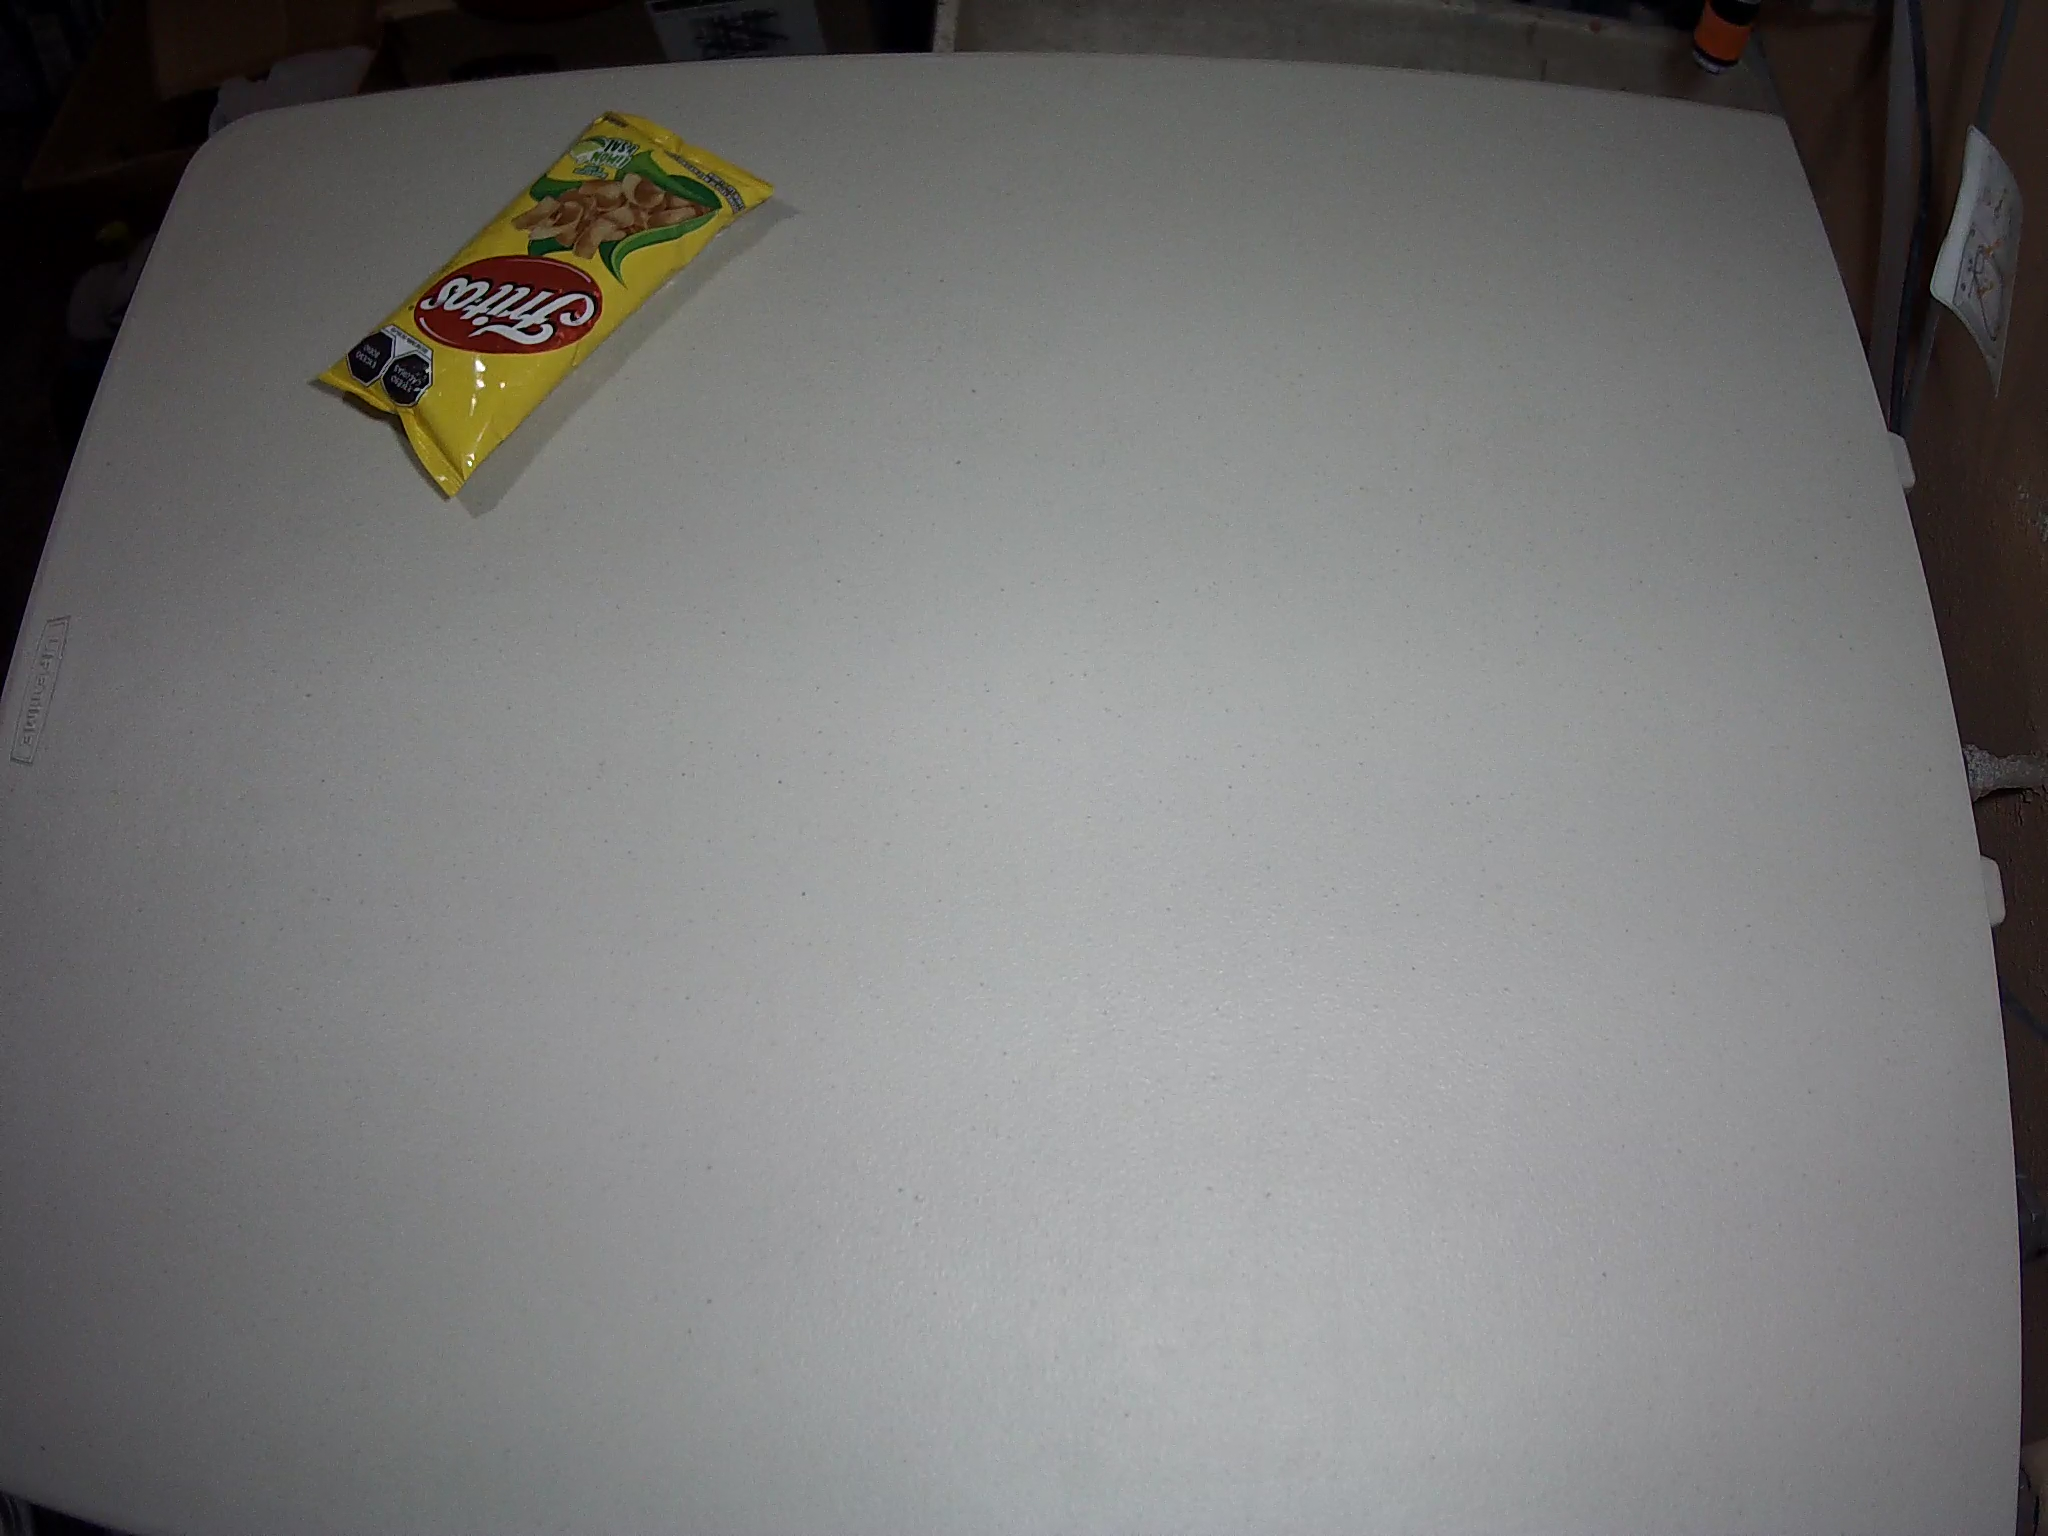FritosSalLimon_65_F: (316, 110, 776, 500)
